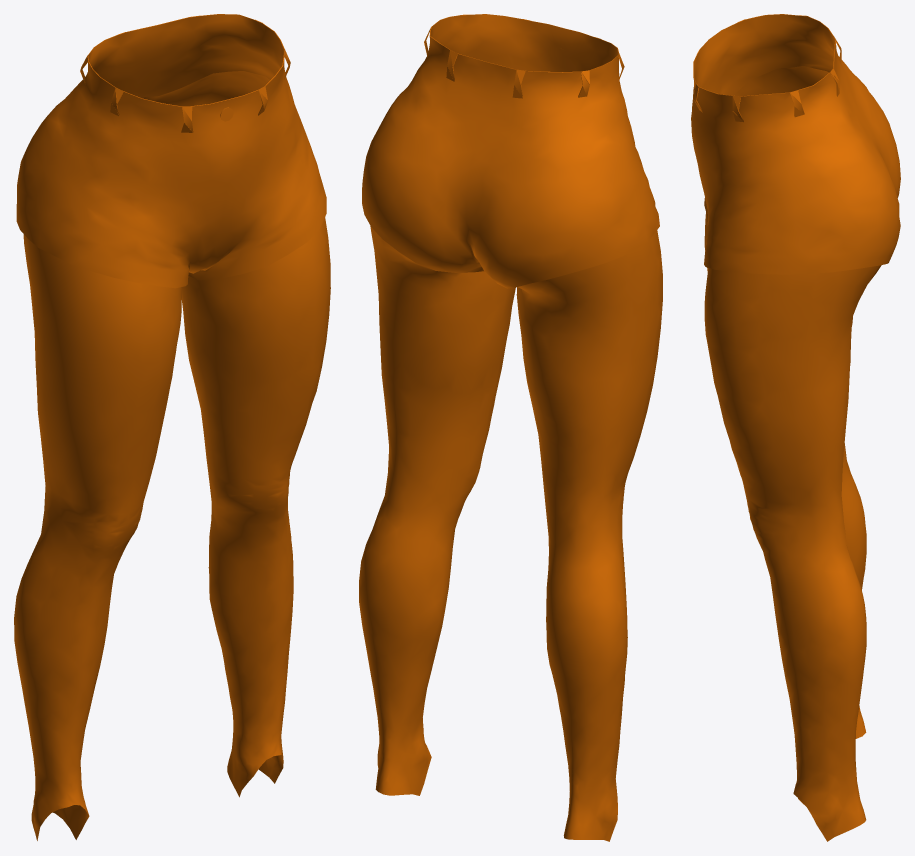
File: calçaofem12.glb
3 views of the same model, side by side, from view 1: azimuth 30°, elevation 25°; view 2: azimuth 150°, elevation 25°; view 3: azimuth 270°, elevation 25° (orthographic). The views are drawn at different scales.
Visible parts, largest first — view 1: hash_3FBBEF0A.model; view 2: hash_3FBBEF0A.model; view 3: hash_3FBBEF0A.model.
Boxes of the visible parts, x1,y1,x2,y2 form: hash_3FBBEF0A.model: (14, 14, 330, 840); hash_3FBBEF0A.model: (359, 14, 662, 841); hash_3FBBEF0A.model: (691, 14, 900, 841).
Size of the model in its own units: 0.4233 by 1.16 by 0.2975.
